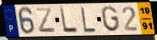2: (121, 6, 138, 32)
6: (17, 6, 36, 36)
G: (100, 5, 121, 33)
L: (59, 6, 79, 34), (80, 6, 98, 34)
Z: (34, 7, 57, 34)
